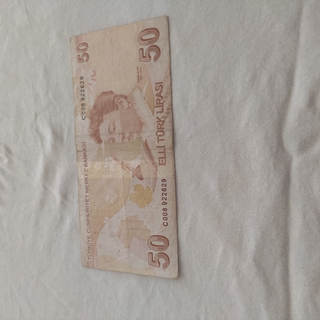50TLBack: (68, 15, 179, 279)
